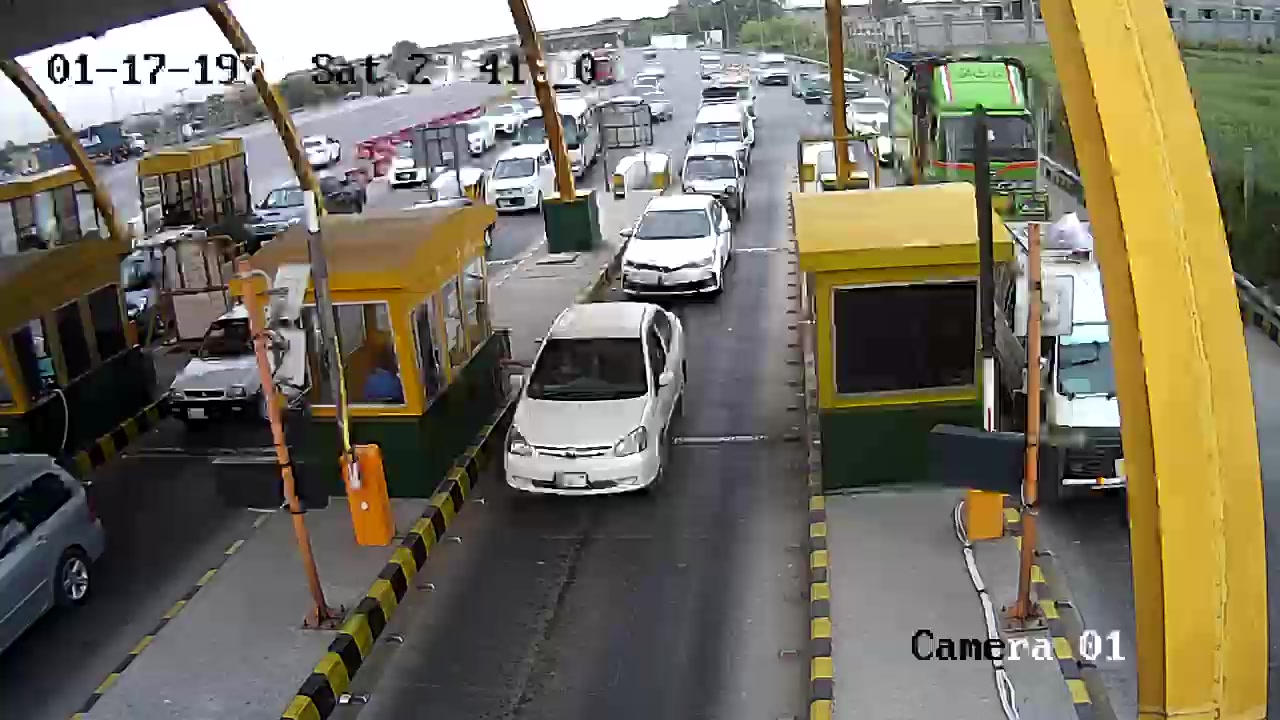F1: (610, 193, 736, 305)
